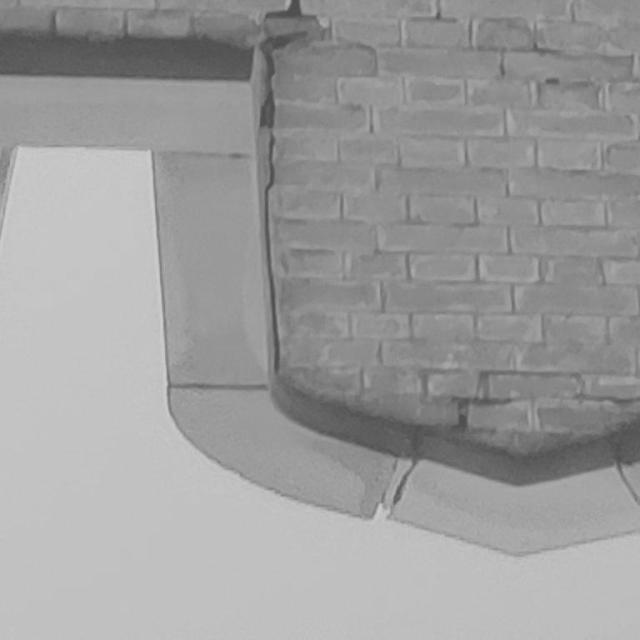crack: (258, 1, 318, 372), (446, 396, 512, 431)
